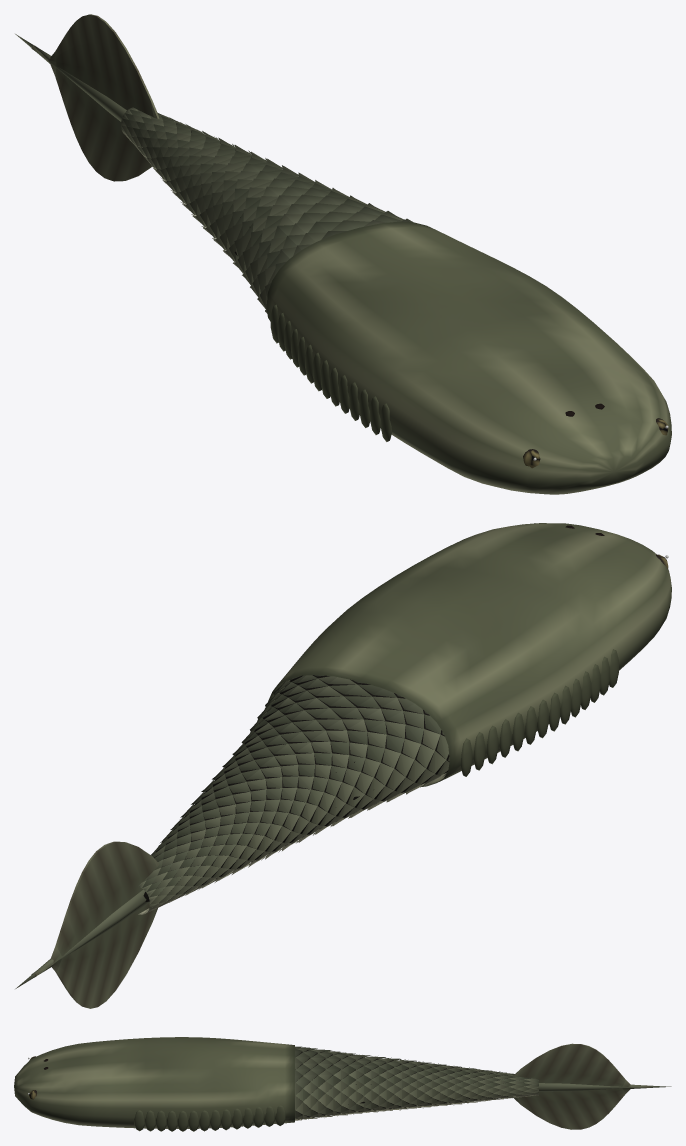
File: PorophoraspisCrenulata.fbx
The picture shows the model from 3 angles, top to bottom: view 1: azimuth 30°, elevation 25°; view 2: azimuth 150°, elevation 25°; view 3: azimuth 270°, elevation 25°; orthographic projection. The views are drawn at different scales.
Parts seen in each view (by area): view 1: PorophoraspisCrenulata; view 2: PorophoraspisCrenulata; view 3: PorophoraspisCrenulata.
Boxes of the visible parts, x1=… form: PorophoraspisCrenulata: x1=15, y1=14, x2=671, y2=494; PorophoraspisCrenulata: x1=15, y1=523, x2=671, y2=1008; PorophoraspisCrenulata: x1=14, y1=1037, x2=671, y2=1131.
Bounding box in the file's own units: 0.4058 × 0.2554 × 1.78.
